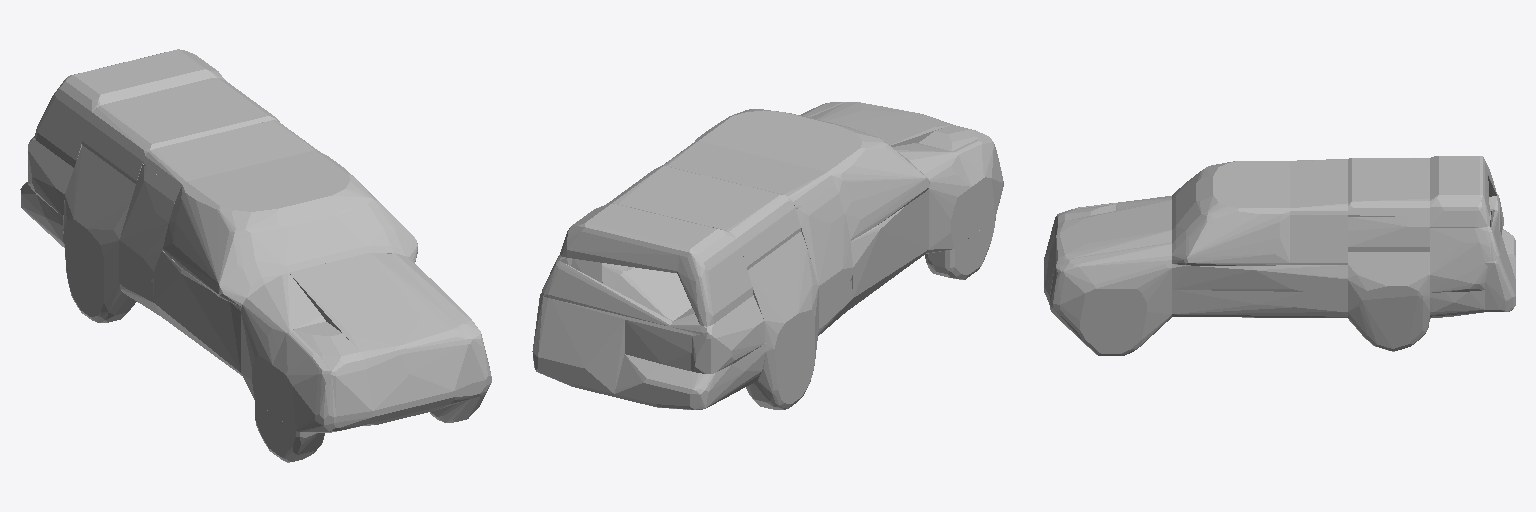
The robot description file, URDF, robot "root":
<robot name="root">
  <link name="link_001">
    <visual>
      <origin xyz="0 0 0" rpy="0 0 0"/>
      <geometry>
        <mesh filename="decomposed_010.obj" scale="1.0000E+00 1.0000E+00 1.0000E+00"/>
      </geometry>
      <material name="">
        <color rgba="7.50E-01 7.50E-01 7.50E-01 1"/>
      </material>
    </visual>
    <collision>
      <origin xyz="0 0 0" rpy="0 0 0"/>
      <geometry>
        <mesh filename="decomposed_010.obj" scale="1.0000E+00 1.0000E+00 1.0000E+00"/>
      </geometry>
    </collision>
  </link>
</robot>

--- Facts derived from the render (not from the file) ---
The picture shows the robot from 3 angles, left to right: view 1: azimuth 30°, elevation 25°; view 2: azimuth 150°, elevation 25°; view 3: azimuth 270°, elevation 25°; orthographic projection.
Model root with 1 links and 0 joints (none), rooted at link_001, posed every joint at zero.
Links seen in each view (by area): view 1: link_001; view 2: link_001; view 3: link_001.
Boxes of the visible links, x1,y1,x2,y2 form: link_001: (20, 49, 491, 462); link_001: (532, 102, 1003, 409); link_001: (1044, 156, 1515, 355).
Size in the robot's own frame: 0.0692 by 0.1872 by 0.0651 metres.
Meshes: 1 distinct files referenced, 1 mesh visuals loaded (1 OBJ).